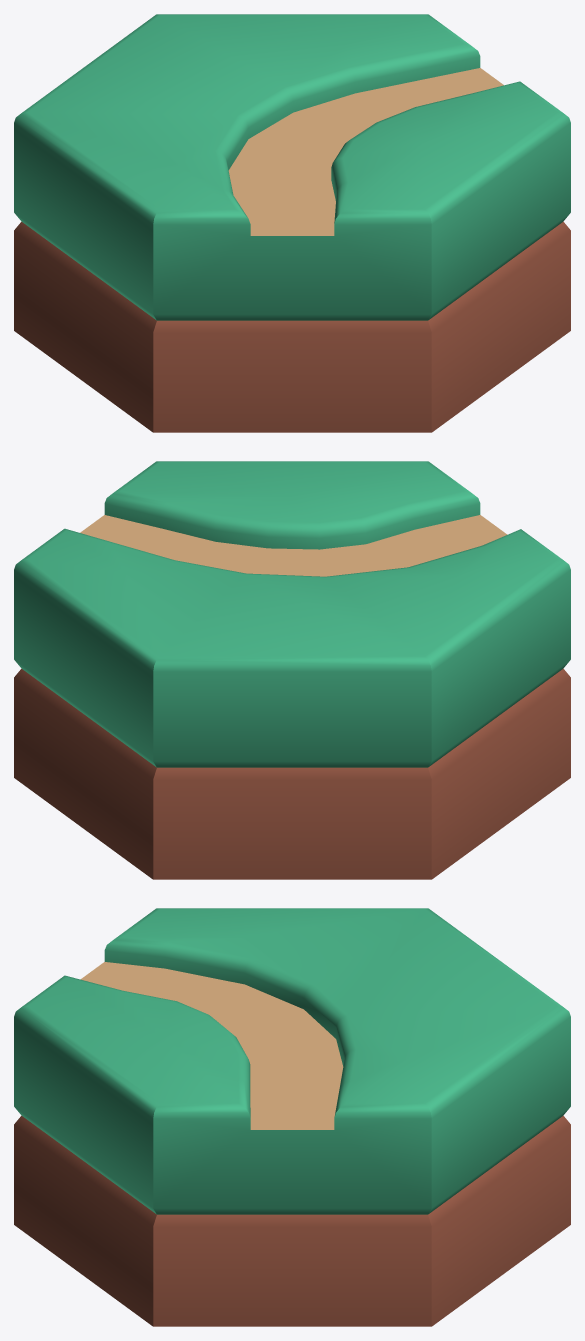
The model's file is hex_forest_roadD_detail.glb.
3 views of the same model, one above another, from view 1: azimuth 30°, elevation 25°; view 2: azimuth 150°, elevation 25°; view 3: azimuth 270°, elevation 25° (orthographic).
Parts seen in each view (by area): view 1: hex_forest_roadD_detail; view 2: hex_forest_roadD_detail; view 3: hex_forest_roadD_detail.
Part boxes in pixels (box(x1,y1,x2,y2)): hex_forest_roadD_detail: box(14, 14, 570, 432); hex_forest_roadD_detail: box(14, 461, 570, 879); hex_forest_roadD_detail: box(14, 908, 570, 1326).
Bounding box in the file's own units: 2 × 1 × 2.31.
